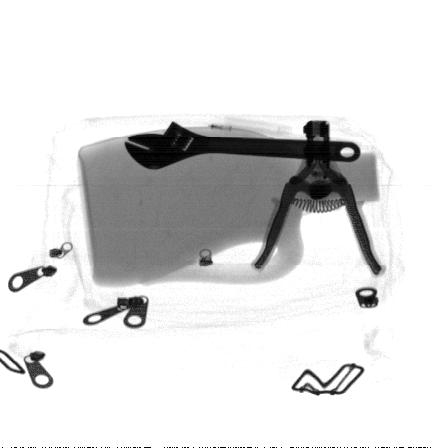Pliers: (253, 121, 385, 277)
Wrench: (125, 119, 364, 170)
